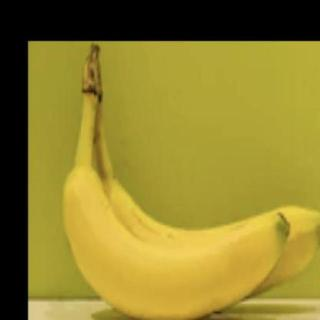banana: (61, 168, 293, 319)
